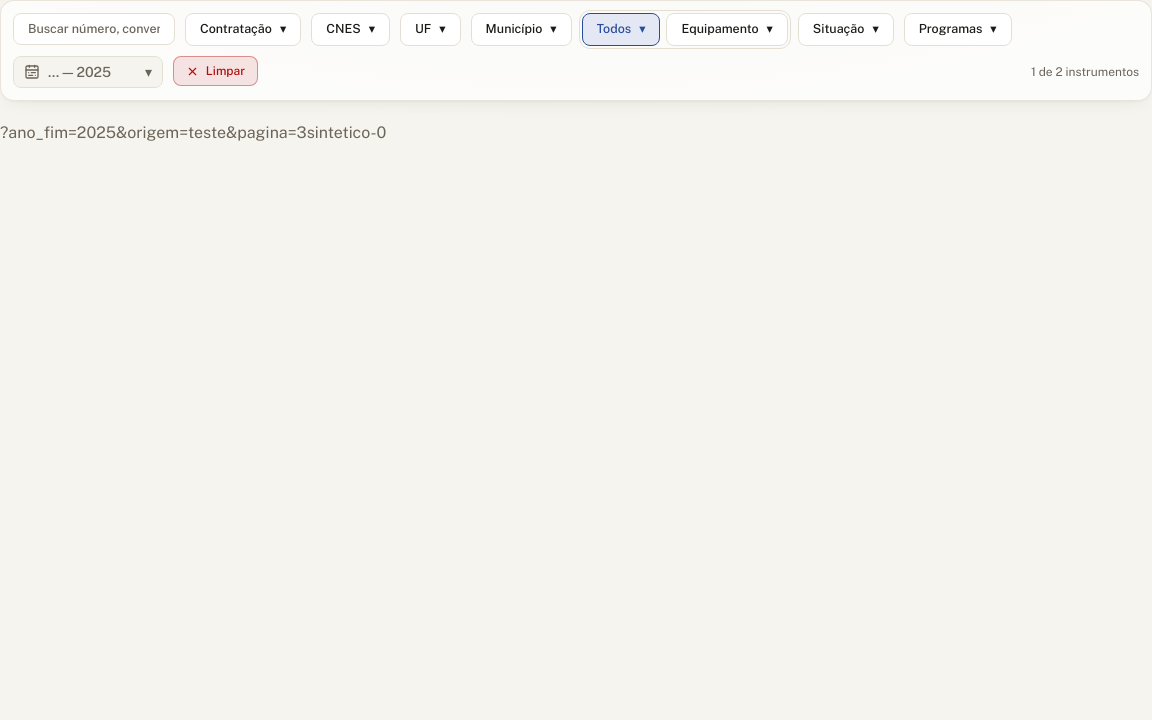
Filtros reais do monitoramento e URL › substitui intervalo incompatível ano_fim=2025 sem perder o ano escolhido
The width and height of the screenshot is (1152, 720).
Click the button "… — 2025 ▾" at (88, 72), box [13, 56, 163, 88]
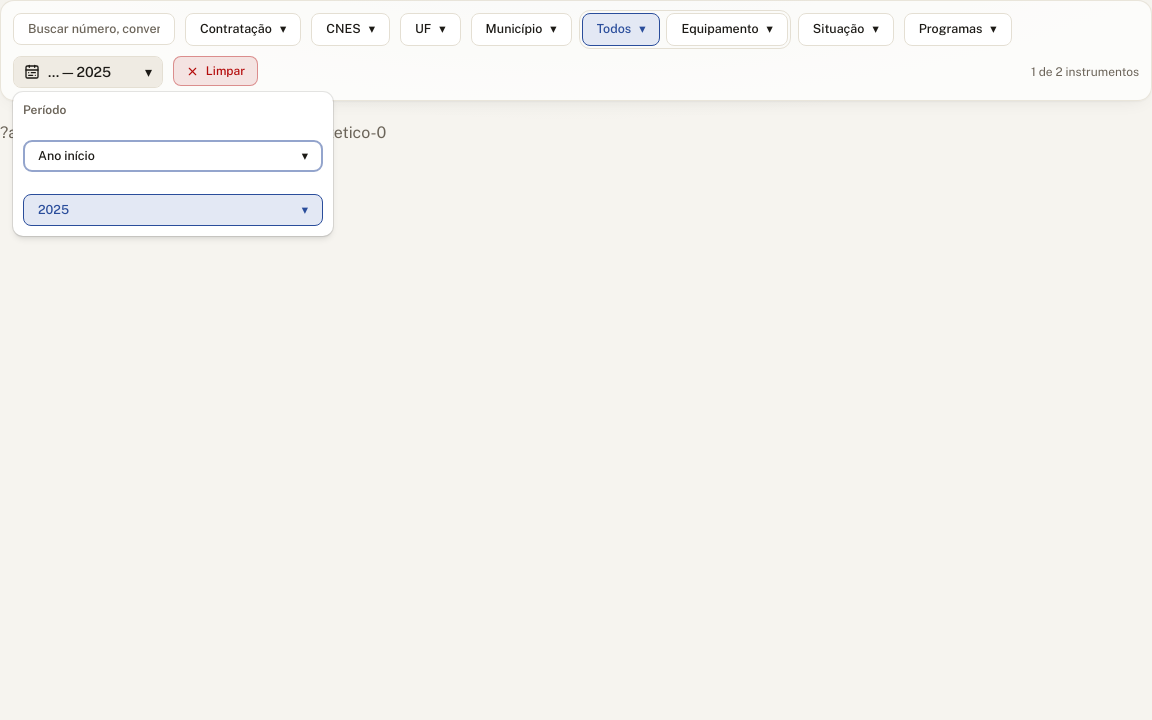
Click the button "Ano início ▾" at (66, 156), box [23, 140, 323, 172]
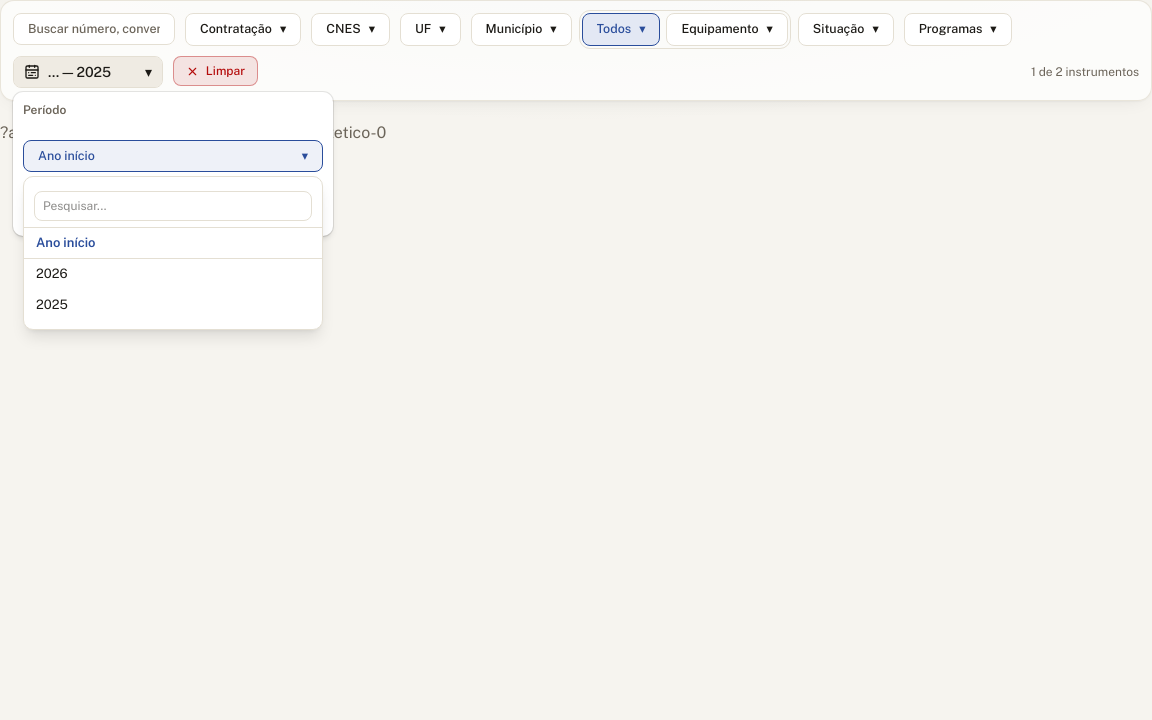
Click the option "2026" at (52, 274), box [24, 259, 322, 290]
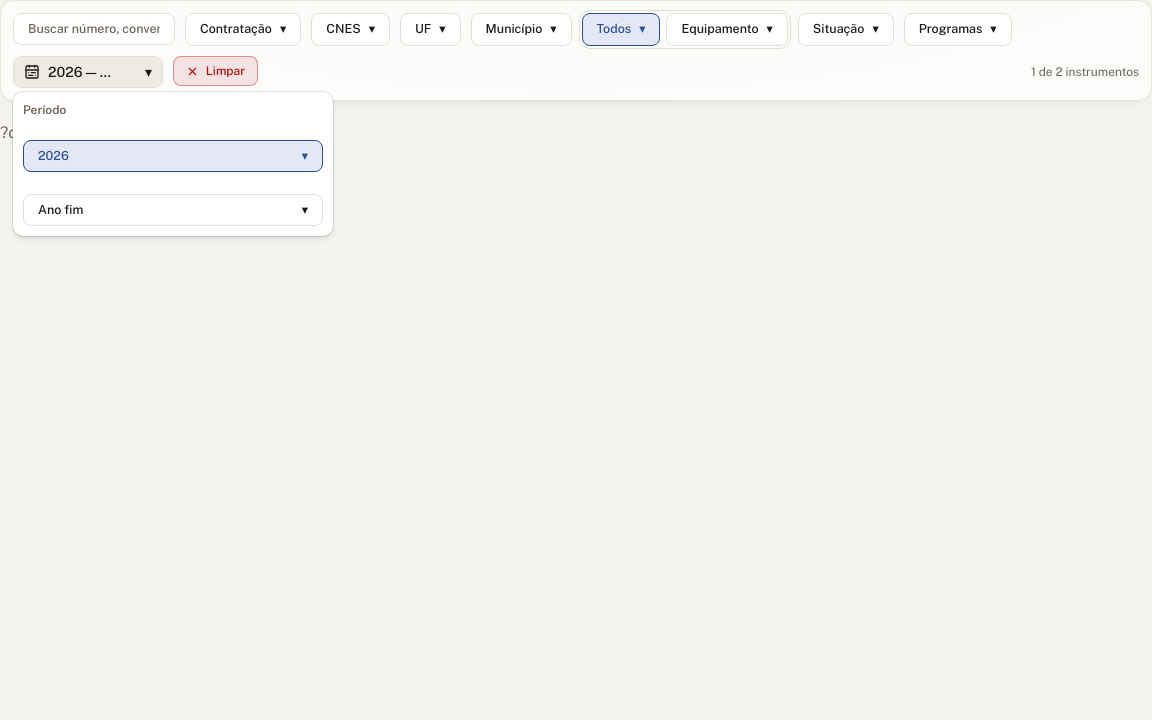
Result: the text named "URL" shows "ano_inicio=2026" at [0, 123, 240, 142]
Result: the text named "URL" no longer shows "ano_fim=" at [0, 123, 240, 142]
Result: the text named "URL" no longer shows "pagina=" at [0, 123, 240, 142]
